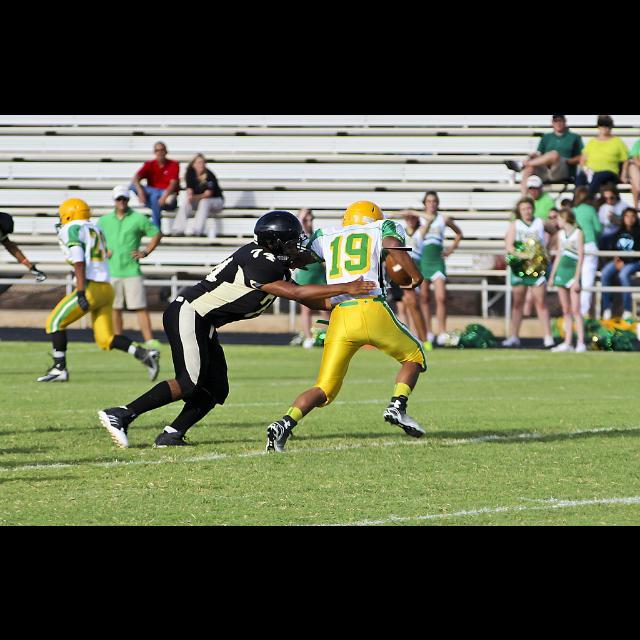Football: (380, 248, 412, 288)
